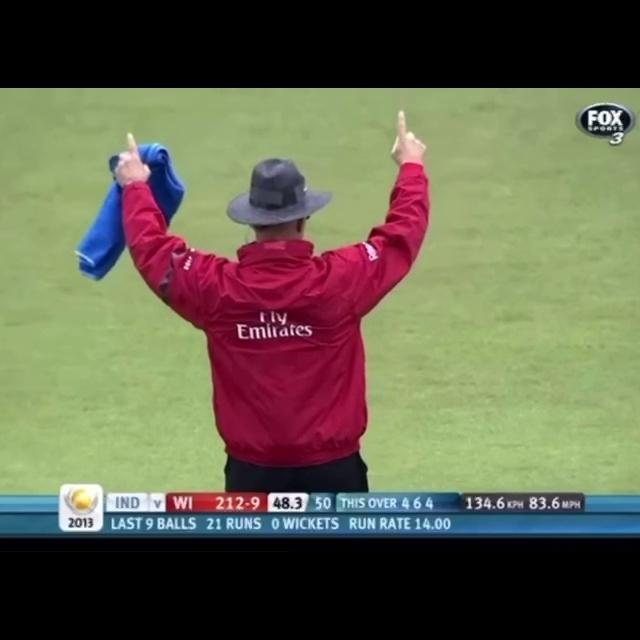umpire: (65, 100, 479, 419)
